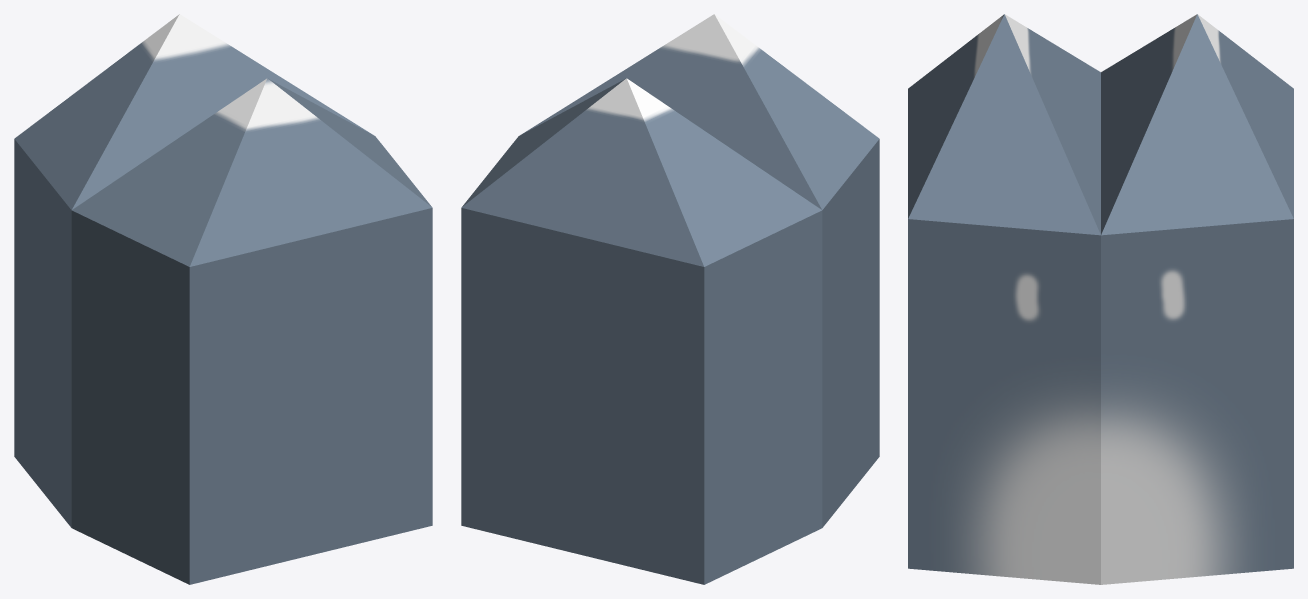
Rendered from critter.glb.
3 renders of one model, left to right at view 1: azimuth 30°, elevation 25°; view 2: azimuth 150°, elevation 25°; view 3: azimuth 270°, elevation 25°, orthographic. The views are drawn at different scales.
Parts seen in each view (by area): view 1: Cube; view 2: Cube; view 3: Cube.
Part boxes in pixels (x1,y1,x2,y2): Cube: (14,14,432,584); Cube: (461,14,879,584); Cube: (908,14,1293,584).
Bounding box in the file's own units: 2 × 2.8 × 2.
1 material, 1 textured.
